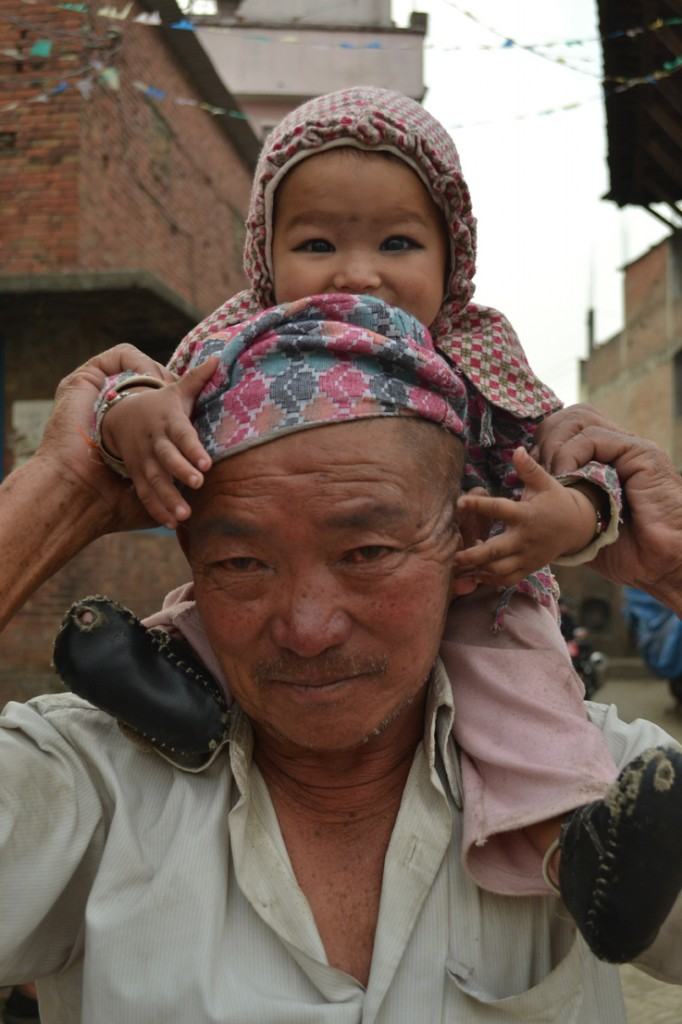human: (51, 62, 682, 943), (1, 306, 682, 1024)
